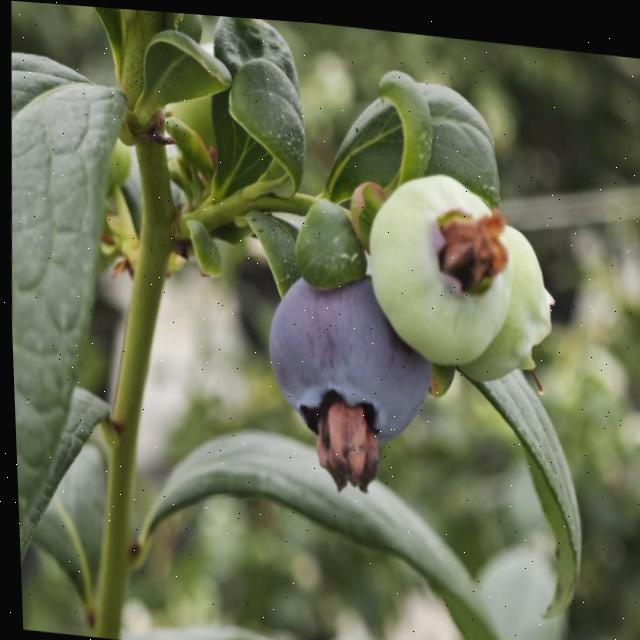RipeBlueBerry: (258, 261, 435, 447)
UnripeBlueBerry: (360, 157, 519, 369)
